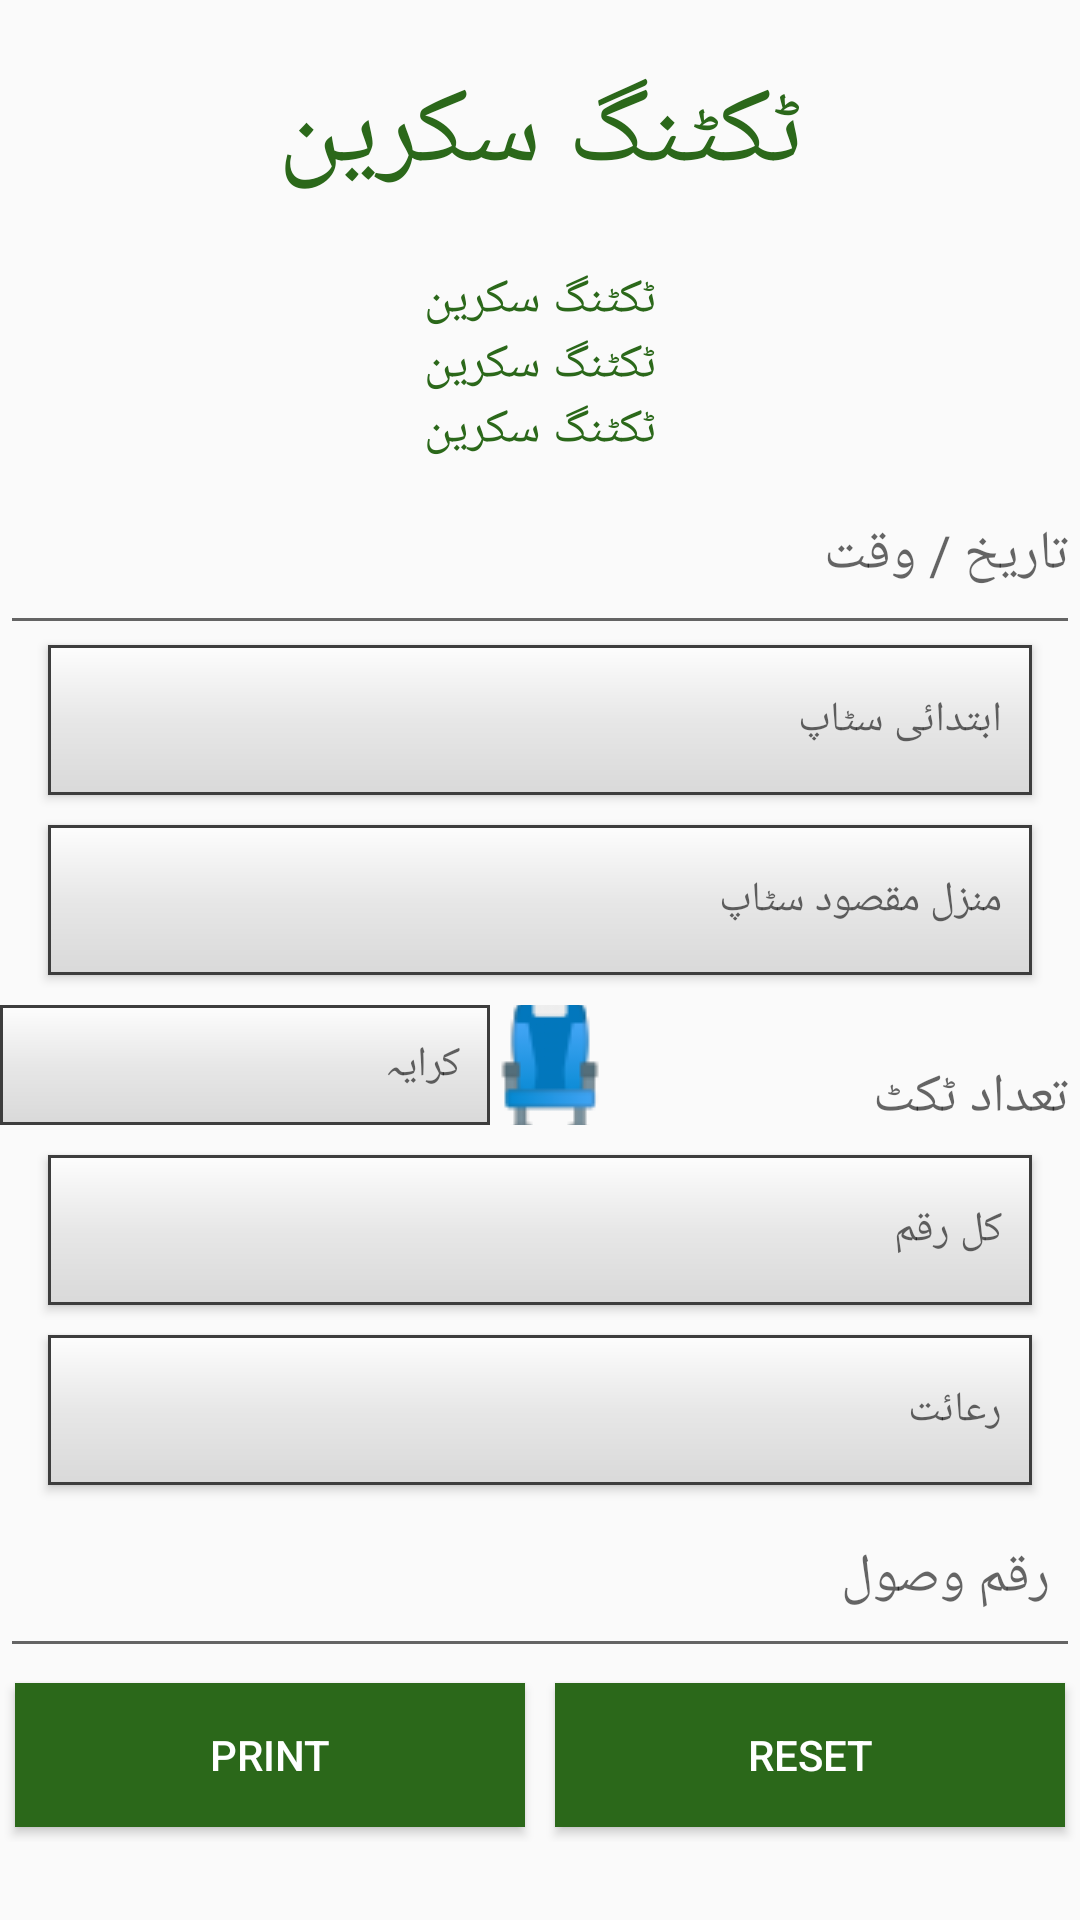

Icons on this 1080w x 1920h Android screen, each with the point to tap as (x=x, y=y):
seat: (x=550, y=1065)
